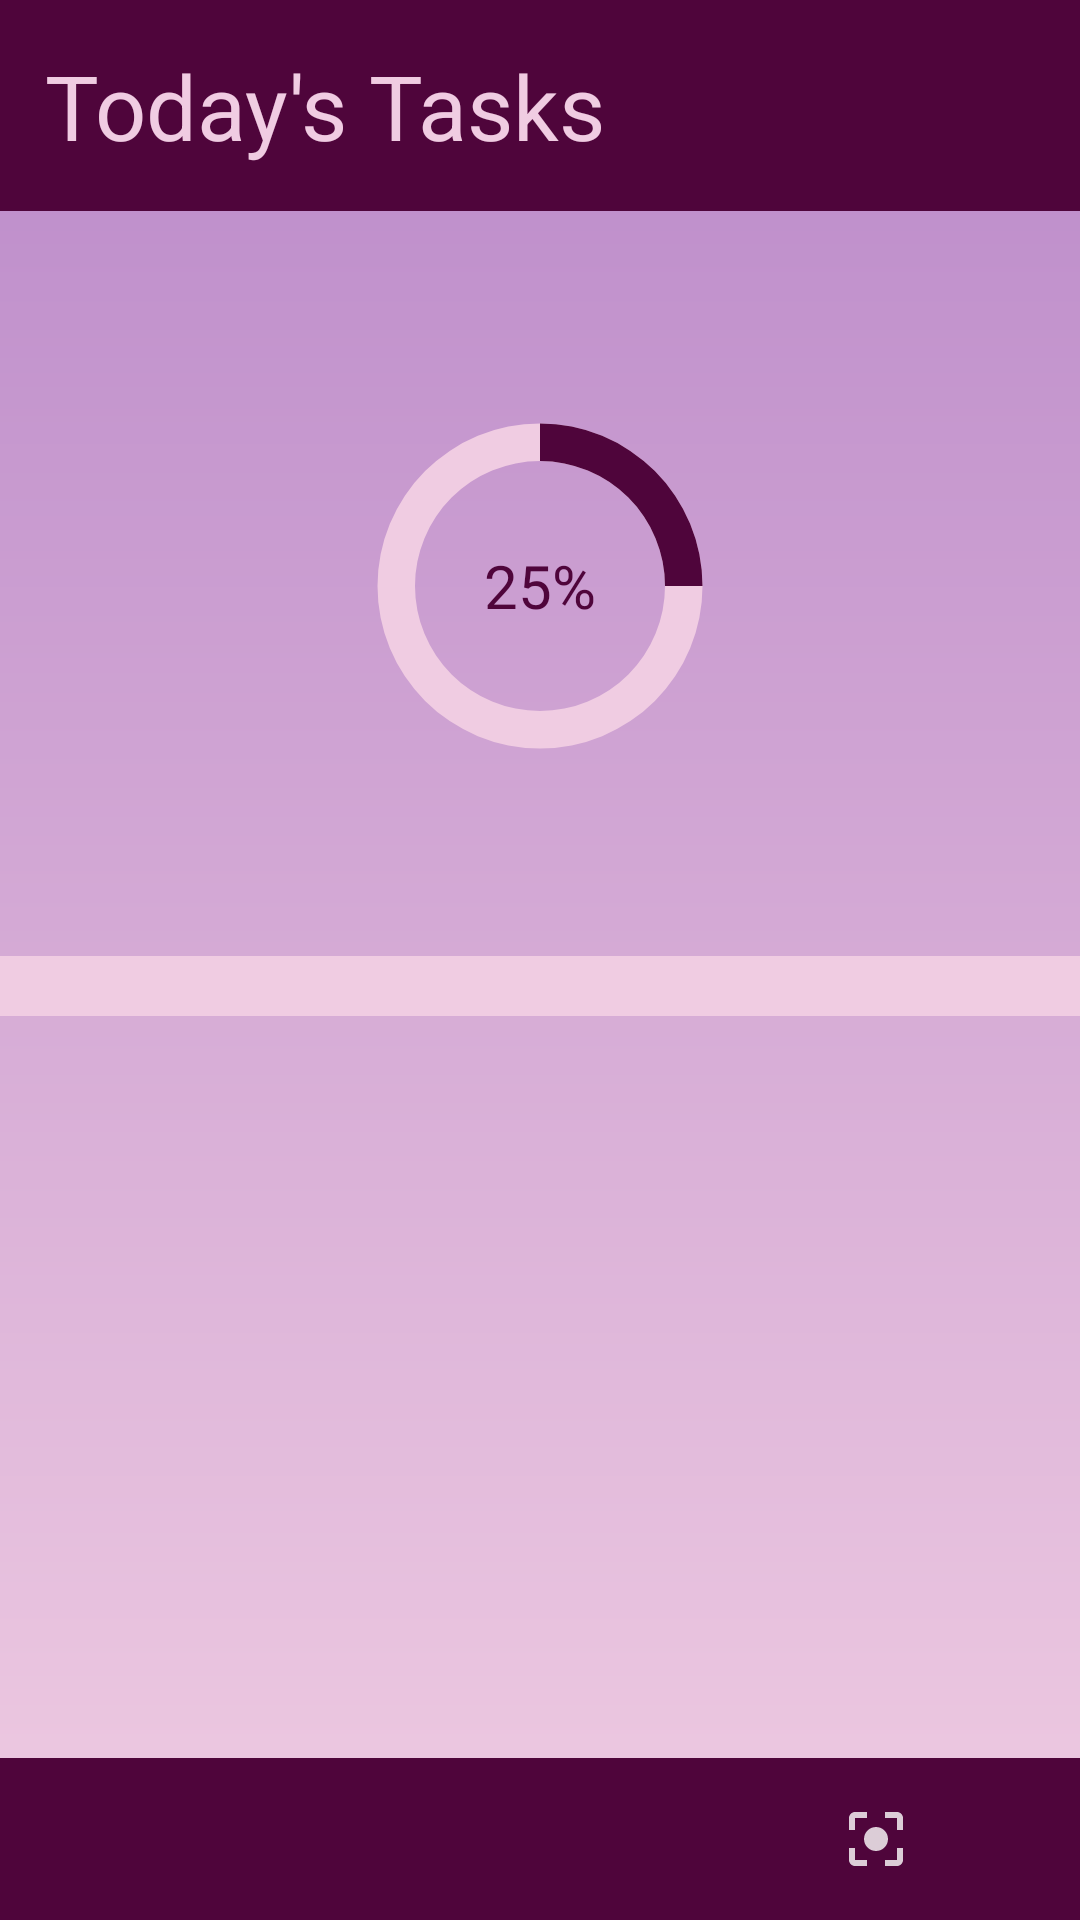

Screen size 1080px x 1920px. Icon name, then its center in pixels as (x,y):
Focus Mode Tab: (876,1839)
